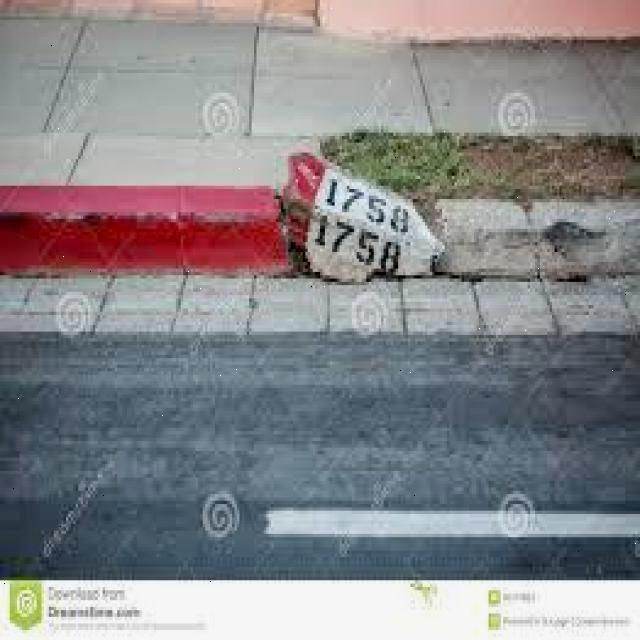curb: (1, 185, 637, 274)
